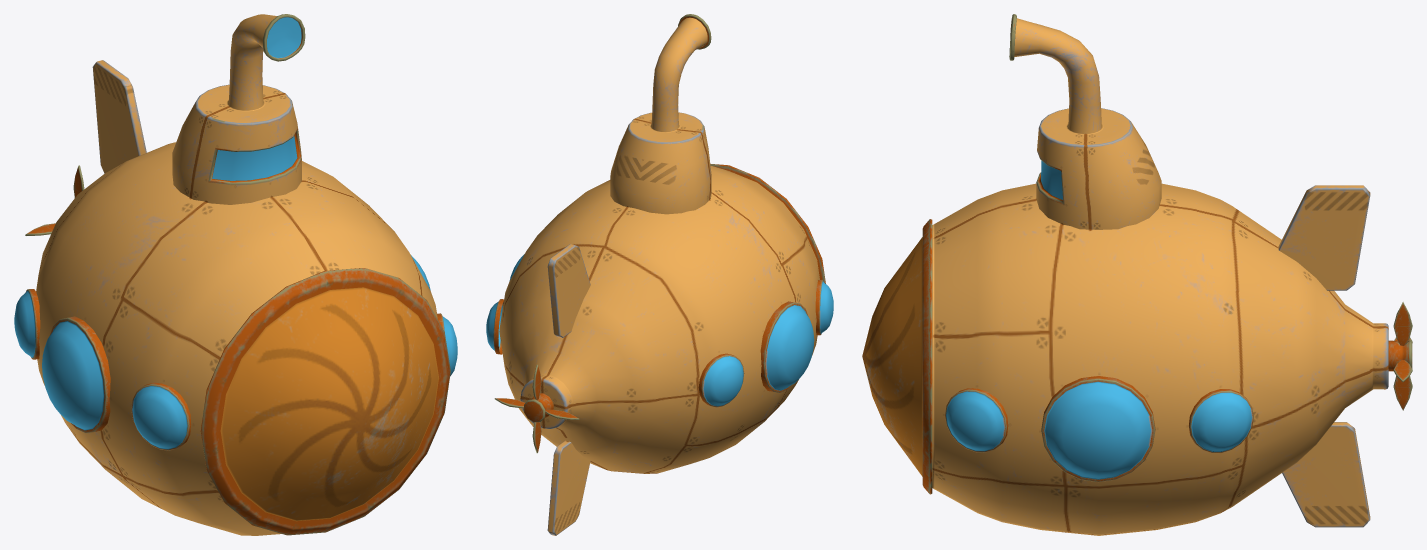
3 views of the same model, side by side, from view 1: azimuth 30°, elevation 25°; view 2: azimuth 150°, elevation 25°; view 3: azimuth 270°, elevation 25° (orthographic). The views are drawn at different scales.
Visible parts, largest first — view 1: Iron_case, Spyglass, Windows, Wings; view 2: Iron_case, Spyglass, Windows, Wings, Motor; view 3: Iron_case, Spyglass, Windows, Wings, Motor.
Boxes of the visible parts, bbox=[...] form: Iron_case: bbox=[36, 142, 450, 535]; Spyglass: bbox=[172, 14, 305, 204]; Windows: bbox=[14, 255, 457, 450]; Wings: bbox=[92, 60, 146, 173]; Iron_case: bbox=[499, 164, 825, 473]; Spyglass: bbox=[610, 14, 711, 214]; Windows: bbox=[486, 254, 833, 407]; Wings: bbox=[547, 244, 590, 535]; Motor: bbox=[494, 364, 579, 453]; Iron_case: bbox=[862, 183, 1388, 535]; Spyglass: bbox=[1009, 14, 1161, 229]; Windows: bbox=[945, 376, 1253, 481]; Wings: bbox=[1278, 185, 1370, 527]; Motor: bbox=[1388, 302, 1412, 410].
Size of the model in its own units: 2.59 by 3.6 by 3.51.
Materials: 1 (1 with a texture image).
